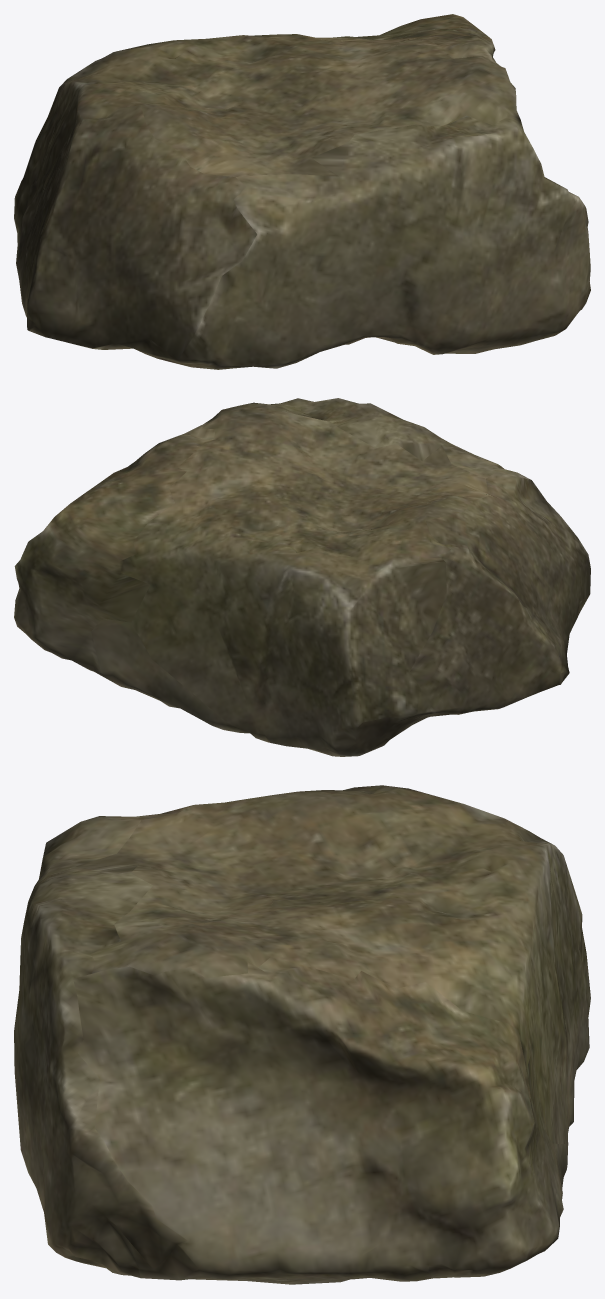
The model's file is rock_02_lod1.glb.
3 views of the same model, one above another, from view 1: azimuth 30°, elevation 25°; view 2: azimuth 150°, elevation 25°; view 3: azimuth 270°, elevation 25° (orthographic). The views are drawn at different scales.
Visible parts, largest first — view 1: Rock_02_LOD1; view 2: Rock_02_LOD1; view 3: Rock_02_LOD1.
Boxes of the visible parts, left/top/right/bottom form: Rock_02_LOD1: left=14, top=14, right=590, bottom=369; Rock_02_LOD1: left=14, top=398, right=590, bottom=756; Rock_02_LOD1: left=14, top=785, right=590, bottom=1284.
Bounding box in the file's own units: 2.49 × 1.09 × 1.79.
Materials: 1 (1 with a texture image).
